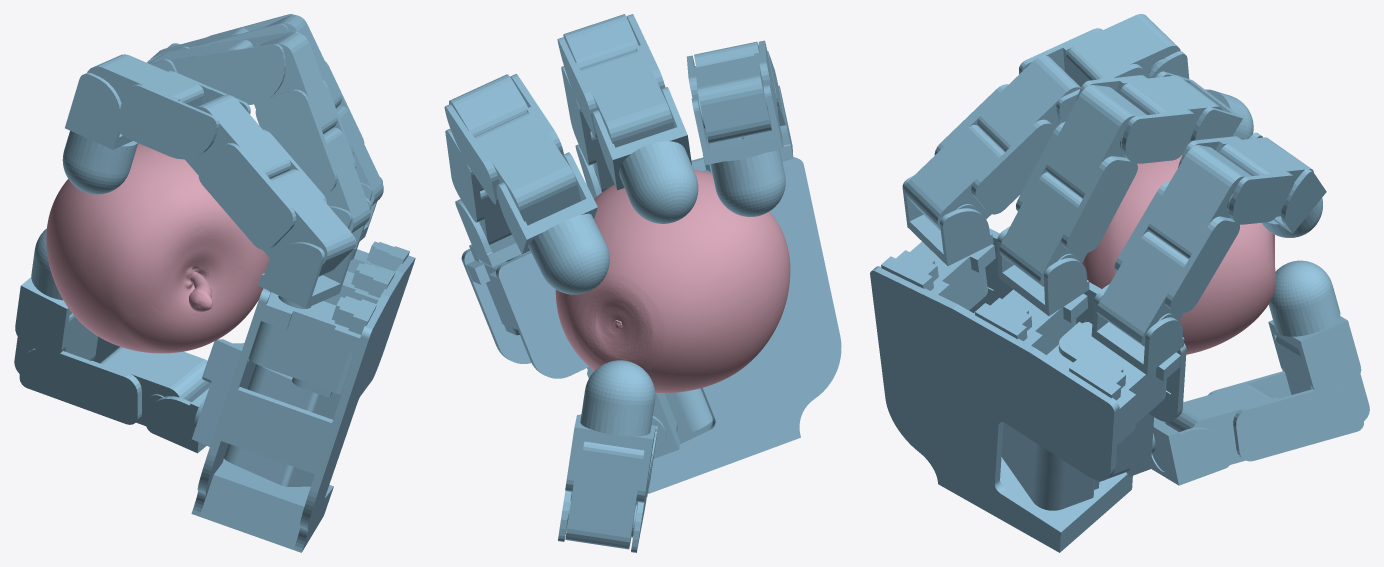
The picture shows the model from 3 angles, left to right: view 1: azimuth 30°, elevation 25°; view 2: azimuth 150°, elevation 25°; view 3: azimuth 270°, elevation 25°; orthographic projection. The views are drawn at different scales.
Parts seen in each view (by area): view 1: world; view 2: world; view 3: world.
Boxes of the visible parts, x1=… form: world: x1=14, y1=14, x2=415, y2=552; world: x1=444, y1=14, x2=841, y2=552; world: x1=870, y1=14, x2=1369, y2=552.
Bounding box in the file's own units: 0.1332 × 0.1802 × 0.1792.
